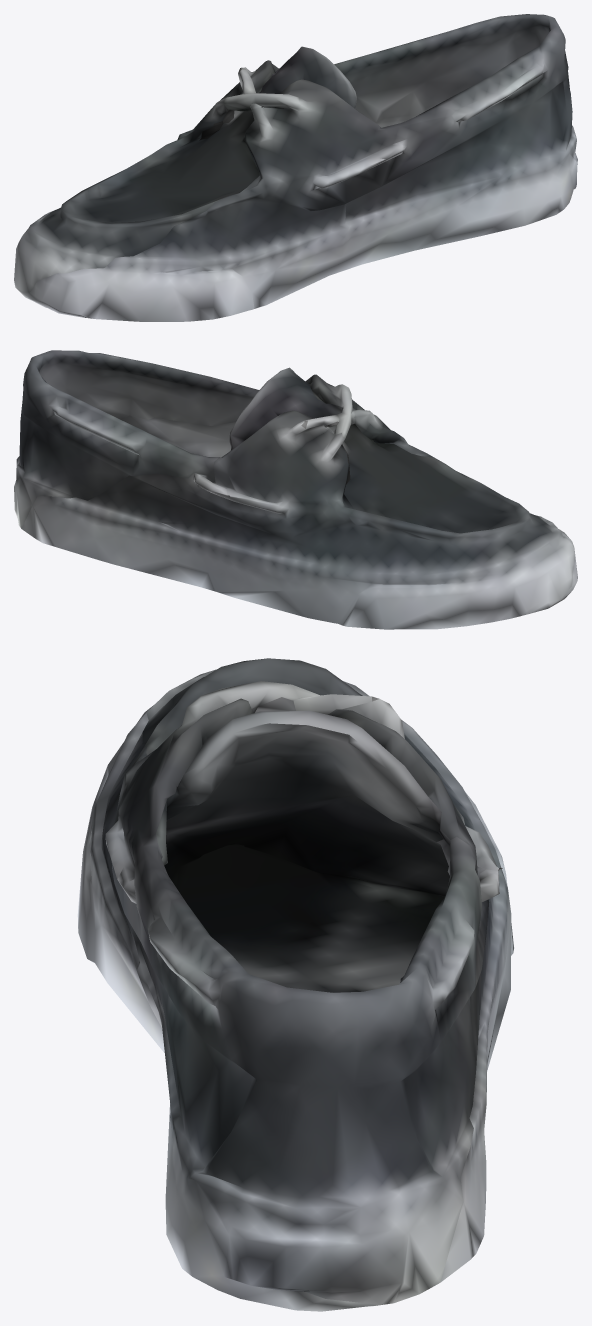
File: Womens_Canvas_Bahama_in_Black-medium.glb
3 views of the same model, one above another, from view 1: azimuth 30°, elevation 25°; view 2: azimuth 150°, elevation 25°; view 3: azimuth 270°, elevation 25° (orthographic). The views are drawn at different scales.
Parts seen in each view (by area): view 1: Womens_Canvas_Bahama_in_Black; view 2: Womens_Canvas_Bahama_in_Black; view 3: Womens_Canvas_Bahama_in_Black.
Boxes of the visible parts, <box> form: Womens_Canvas_Bahama_in_Black: <box>14,14,577,321</box>; Womens_Canvas_Bahama_in_Black: <box>14,350,577,629</box>; Womens_Canvas_Bahama_in_Black: <box>77,658,514,1311</box>.
Bounding box in the file's own units: 0.2431 × 0.0823 × 0.0869.
1 material, 1 textured.
